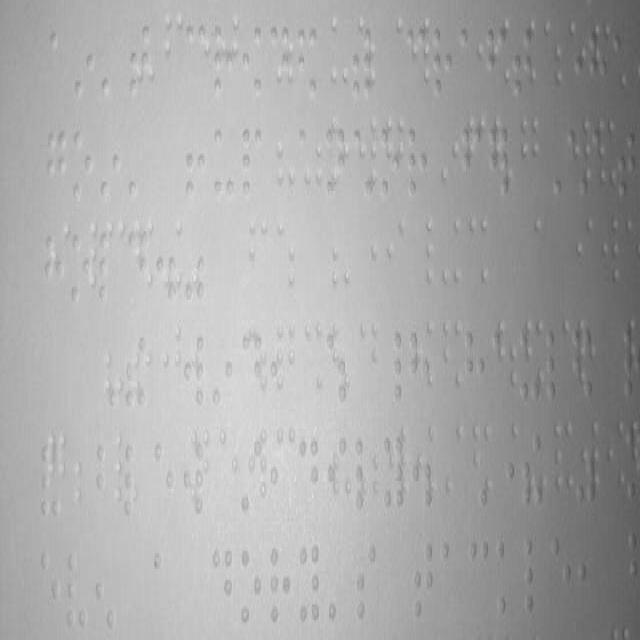braiile: (522, 532, 550, 624), (550, 526, 574, 624), (64, 546, 90, 636), (237, 542, 263, 631), (494, 534, 520, 622), (298, 539, 322, 630), (152, 546, 176, 636), (212, 542, 236, 631), (268, 542, 292, 631), (354, 538, 378, 626), (411, 534, 435, 622), (68, 228, 92, 314), (94, 442, 118, 527), (70, 128, 96, 204), (97, 230, 121, 312), (38, 548, 62, 630), (440, 536, 462, 624), (616, 124, 640, 204), (46, 129, 70, 209), (546, 326, 570, 406), (154, 440, 178, 520), (455, 26, 479, 104), (406, 123, 430, 201), (468, 538, 490, 622), (240, 333, 264, 409), (298, 432, 320, 514), (240, 128, 264, 202), (213, 125, 237, 199), (48, 24, 70, 104), (432, 24, 454, 104), (511, 24, 533, 104), (186, 20, 207, 100), (466, 330, 486, 408)
